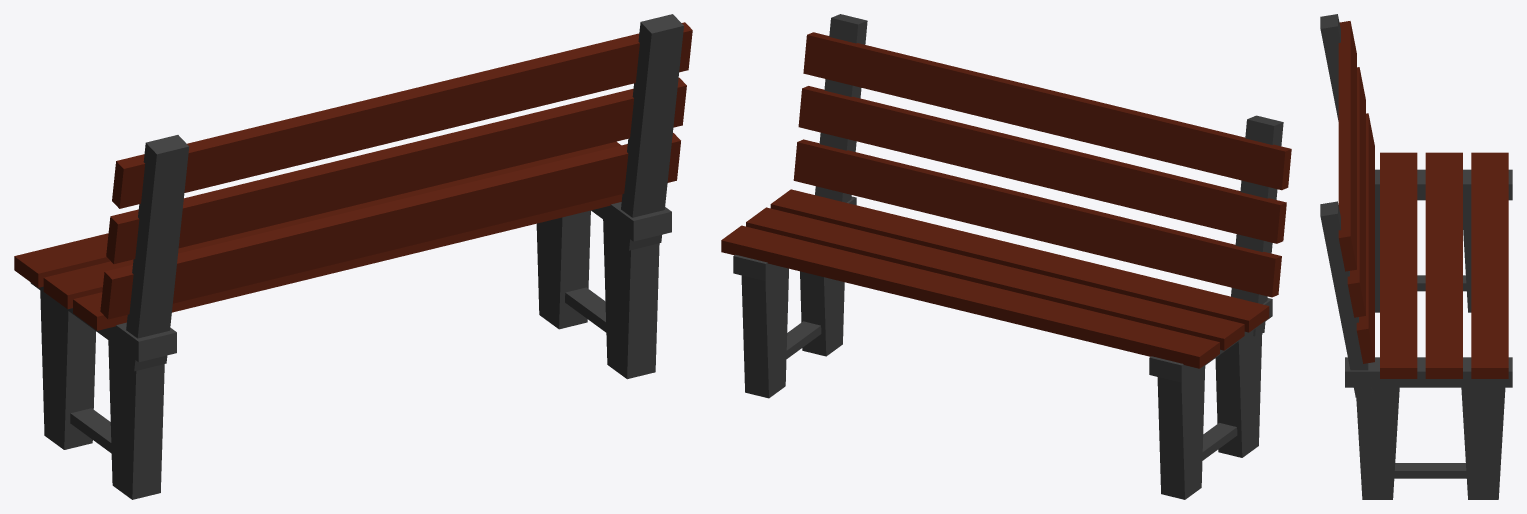
Rendered from Bench_Model.FBX.
3 renders of one model, left to right at view 1: azimuth 30°, elevation 25°; view 2: azimuth 150°, elevation 25°; view 3: azimuth 270°, elevation 25°, orthographic. The views are drawn at different scales.
Visible parts, largest first — view 1: Bench_Model; view 2: Bench_Model; view 3: Bench_Model.
Part boxes in pixels (left/top/right/bottom): Bench_Model: left=14, top=14, right=692, bottom=499; Bench_Model: left=721, top=14, right=1291, bottom=499; Bench_Model: left=1320, top=14, right=1512, bottom=499.
Size of the model in its own units: 85.45 by 53.02 by 32.17.
